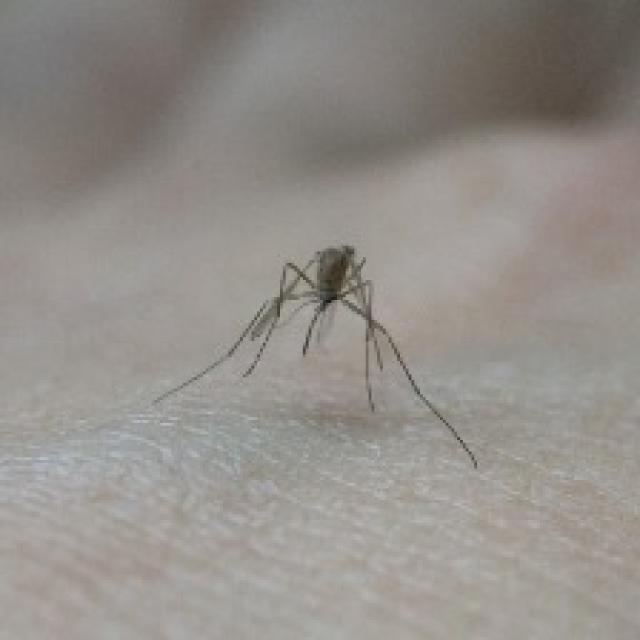culex: (149, 240, 477, 469)
